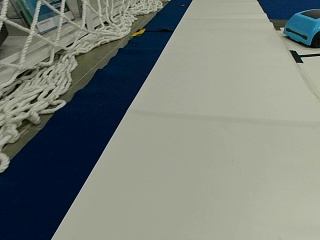car: (283, 8, 319, 46)
